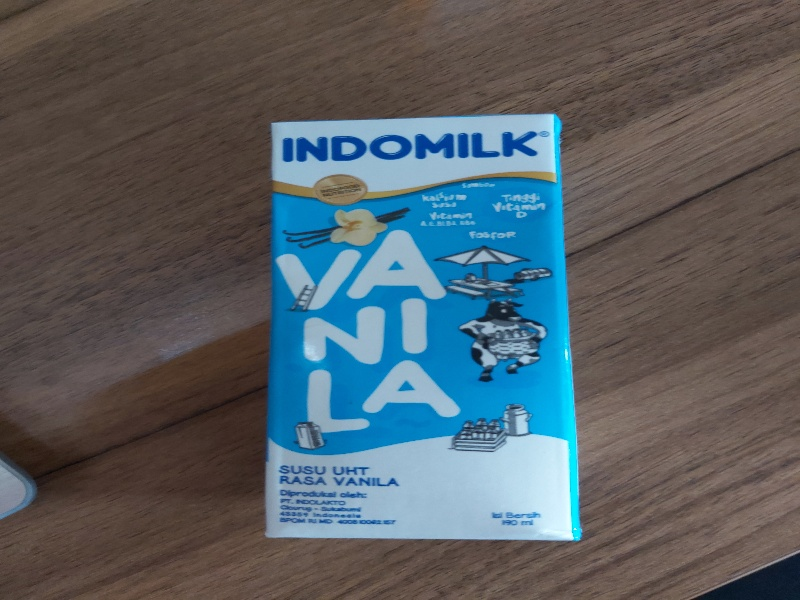vanilla: (262, 113, 588, 548)
